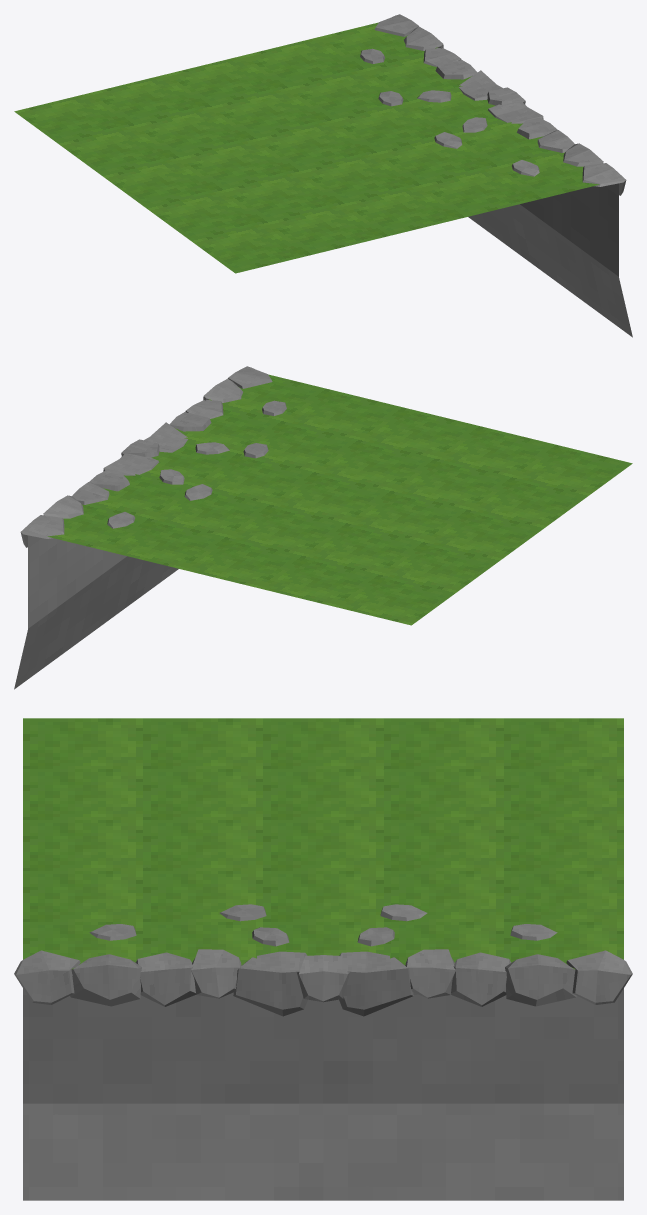
The model's file is TileCliffGrass.fbx.
The picture shows the model from 3 angles, top to bottom: view 1: azimuth 30°, elevation 25°; view 2: azimuth 150°, elevation 25°; view 3: azimuth 270°, elevation 25°; orthographic projection. The views are drawn at different scales.
Parts seen in each view (by area): view 1: grass_cliff_plane; view 2: grass_cliff_plane; view 3: grass_cliff_plane.
Boxes of the visible parts, x1,y1,x2,y2 form: grass_cliff_plane: [14, 14, 632, 337]; grass_cliff_plane: [14, 366, 632, 689]; grass_cliff_plane: [14, 718, 632, 1200].
Bounding box in the file's own units: 5.18 × 2.09 × 5.15.
